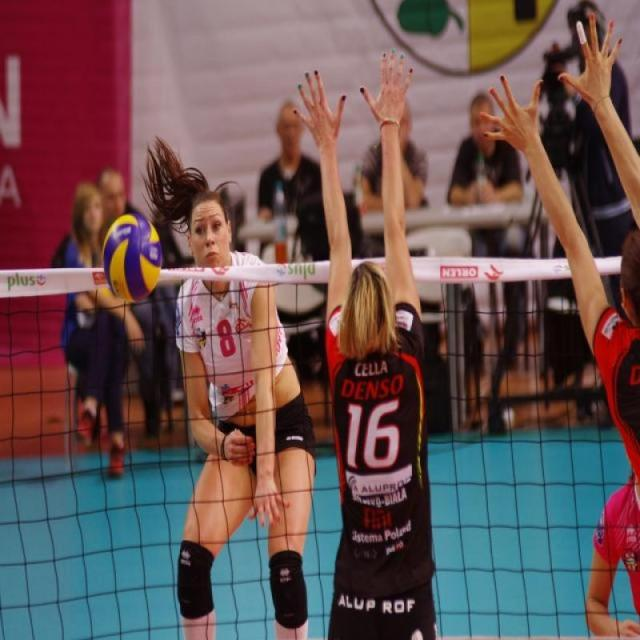volleyball: (100, 211, 163, 302)
